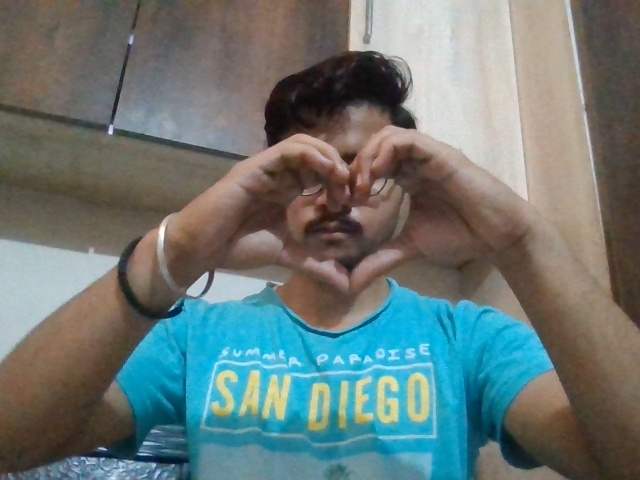iloveyou: (178, 107, 516, 318)
